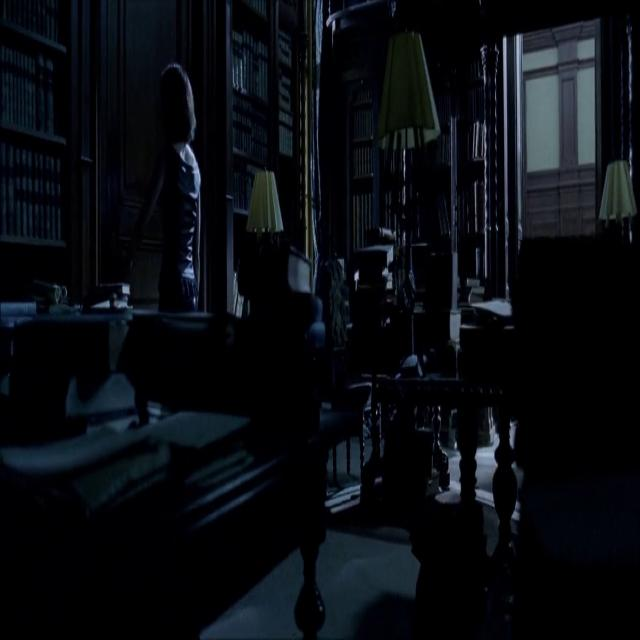People: (144, 47, 207, 332)
Table: (0, 301, 311, 640)
